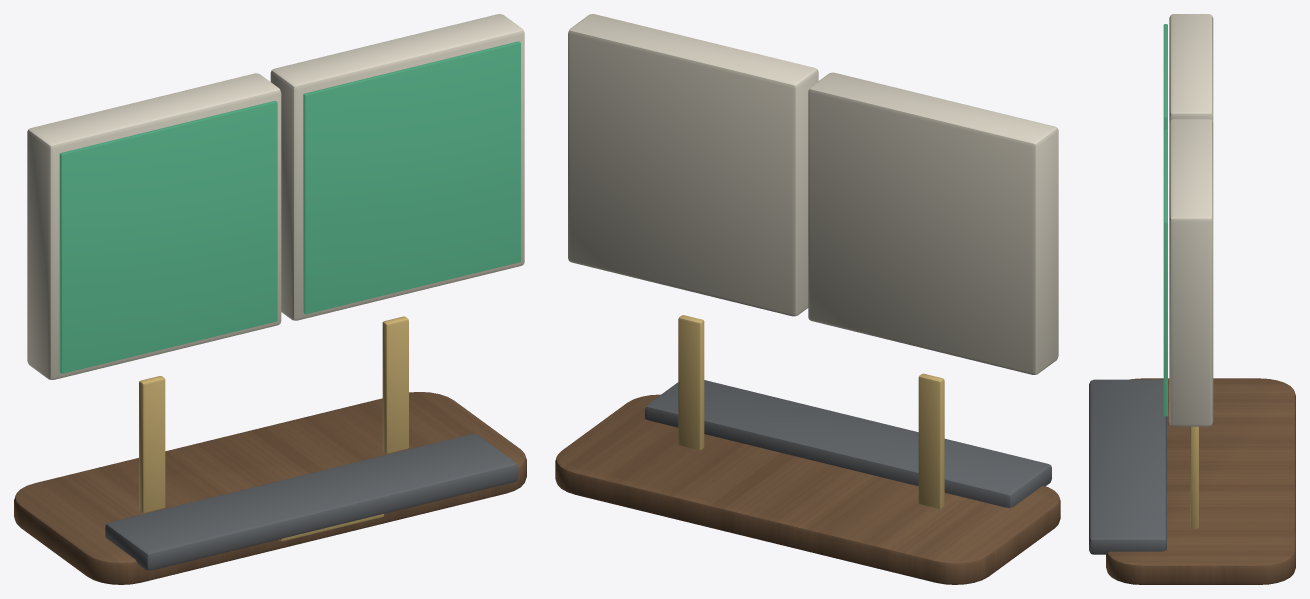
The model's file is computer_country_club.glb.
The picture shows the model from 3 angles, left to right: view 1: azimuth 30°, elevation 25°; view 2: azimuth 150°, elevation 25°; view 3: azimuth 270°, elevation 25°; orthographic projection. The views are drawn at different scales.
Visible parts, largest first — view 1: Computer_Monitor_1_Screen, Computer_Monitor_2_Screen, Computer_Base, Computer_Keyboard, Computer_Monitor_1_Back, Computer_Monitor_2_Back, Computer_Monitor_2_Stem, Computer_Monitor_1_Stem; view 2: Computer_Monitor_1_Back, Computer_Monitor_2_Back, Computer_Base, Computer_Keyboard, Computer_Monitor_1_Stem, Computer_Monitor_2_Stem; view 3: Computer_Base, Computer_Monitor_2_Back, Computer_Keyboard, Computer_Monitor_1_Back, Computer_Monitor_2_Screen, Computer_Monitor_2_Stem, Computer_Monitor_1_Screen.
Part boxes in pixels (<box>): Computer_Monitor_1_Screen: <box>59,101,277,373</box>; Computer_Monitor_2_Screen: <box>303,41,520,314</box>; Computer_Base: <box>14,392,526,584</box>; Computer_Keyboard: <box>105,434,517,570</box>; Computer_Monitor_1_Back: <box>27,73,281,379</box>; Computer_Monitor_2_Back: <box>270,14,524,320</box>; Computer_Monitor_2_Stem: <box>382,316,408,453</box>; Computer_Monitor_1_Stem: <box>139,376,165,512</box>; Computer_Monitor_1_Back: <box>808,72,1058,374</box>; Computer_Monitor_2_Back: <box>568,14,818,316</box>; Computer_Base: <box>555,394,1060,584</box>; Computer_Keyboard: <box>645,380,1051,507</box>; Computer_Monitor_1_Stem: <box>918,373,944,508</box>; Computer_Monitor_2_Stem: <box>678,315,704,450</box>; Computer_Base: <box>1106,378,1295,584</box>; Computer_Monitor_2_Back: <box>1169,119,1213,426</box>; Computer_Keyboard: <box>1089,379,1166,554</box>; Computer_Monitor_1_Back: <box>1169,14,1213,122</box>; Computer_Monitor_2_Screen: <box>1163,129,1167,416</box>; Computer_Monitor_2_Stem: <box>1190,426,1198,528</box>; Computer_Monitor_1_Screen: <box>1163,24,1167,129</box>.
Size of what is drawn, in the model's own units: 0.6808 by 0.5817 by 0.289.
Materials: 5 (1 with a texture image).
